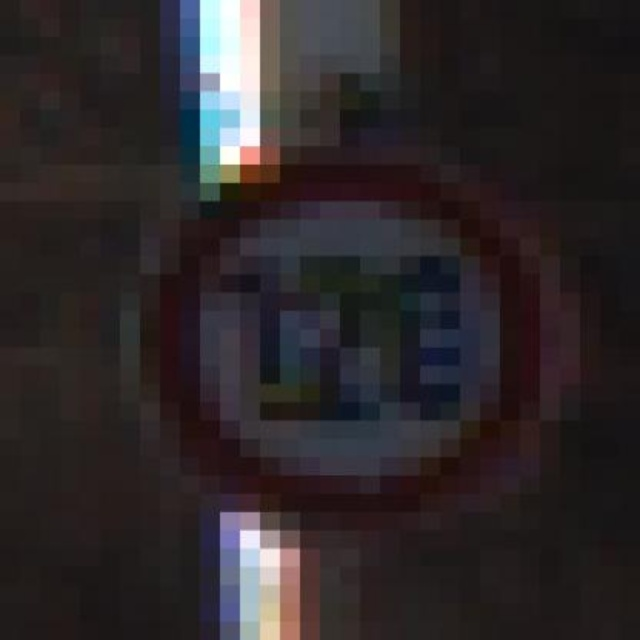Tốc độ tối đa cho phép 120km/h: (157, 152, 536, 517)
